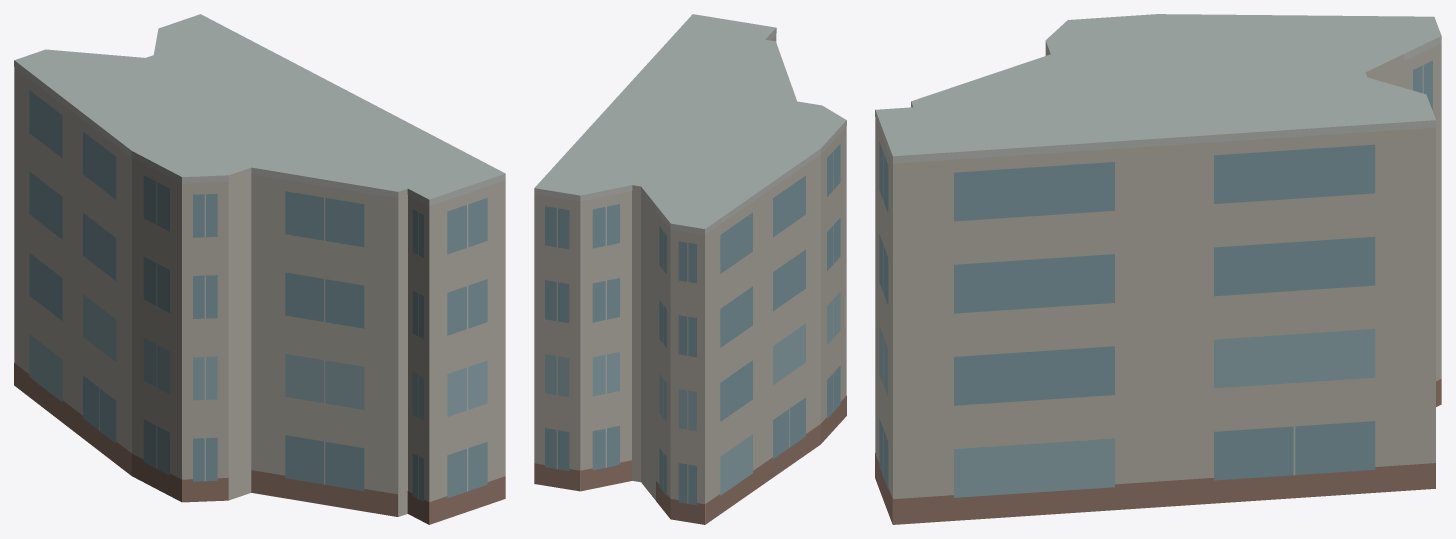
Rendered from survey-upis-32613967.glb.
3 renders of one model, left to right at view 1: azimuth 30°, elevation 25°; view 2: azimuth 150°, elevation 25°; view 3: azimuth 270°, elevation 25°, orthographic. The views are drawn at different scales.
Visible parts, largest first — view 1: survey-upis-32613967.tmp; view 2: survey-upis-32613967.tmp; view 3: survey-upis-32613967.tmp.
Part boxes in pixels (left/top/right/bottom): survey-upis-32613967.tmp: left=14, top=14, right=505, bottom=524; survey-upis-32613967.tmp: left=534, top=14, right=846, bottom=524; survey-upis-32613967.tmp: left=875, top=14, right=1441, bottom=524.
Bounding box in the file's own units: 10.11 × 12.2 × 17.
